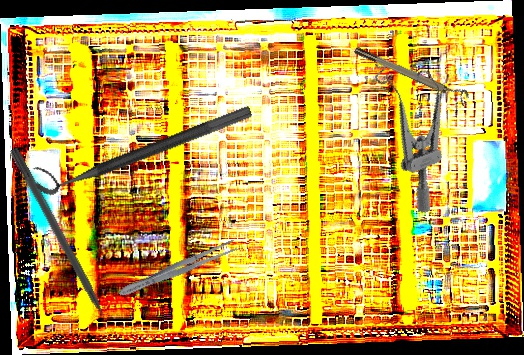Dressing Forceps: (116, 237, 239, 301)
Fixation Ring: (27, 88, 254, 200), (352, 40, 472, 107)
Pusher: (7, 146, 119, 342)
Speculum: (360, 43, 483, 216)
